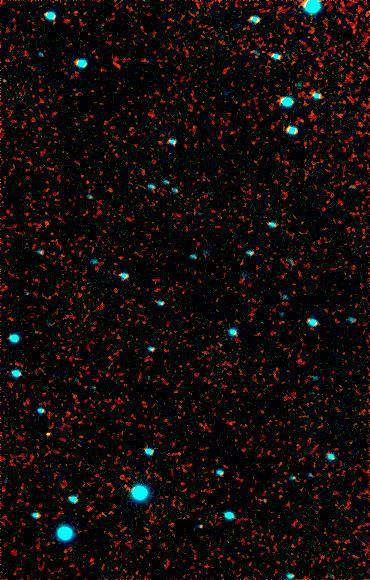star: (32, 420, 62, 450)
